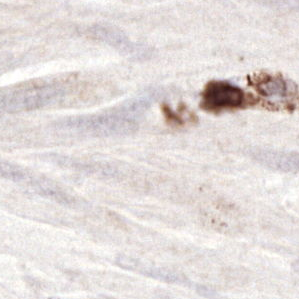Lymphocyte: (201, 79, 244, 110)
